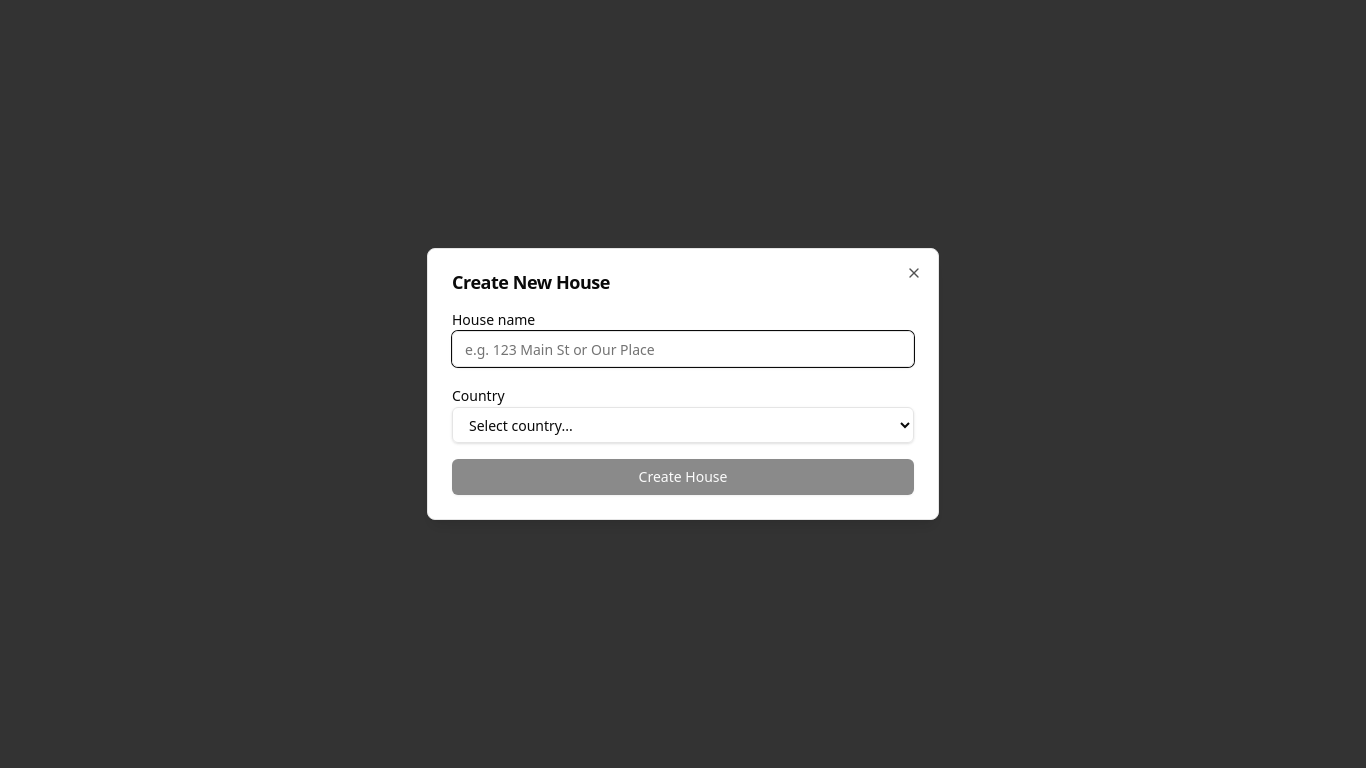
CreateHouseDialog › shows name hint when only country is filled
Select "Spain" in the dropdown labelled "Country" at coordinates (683, 425), box [452, 407, 914, 443]
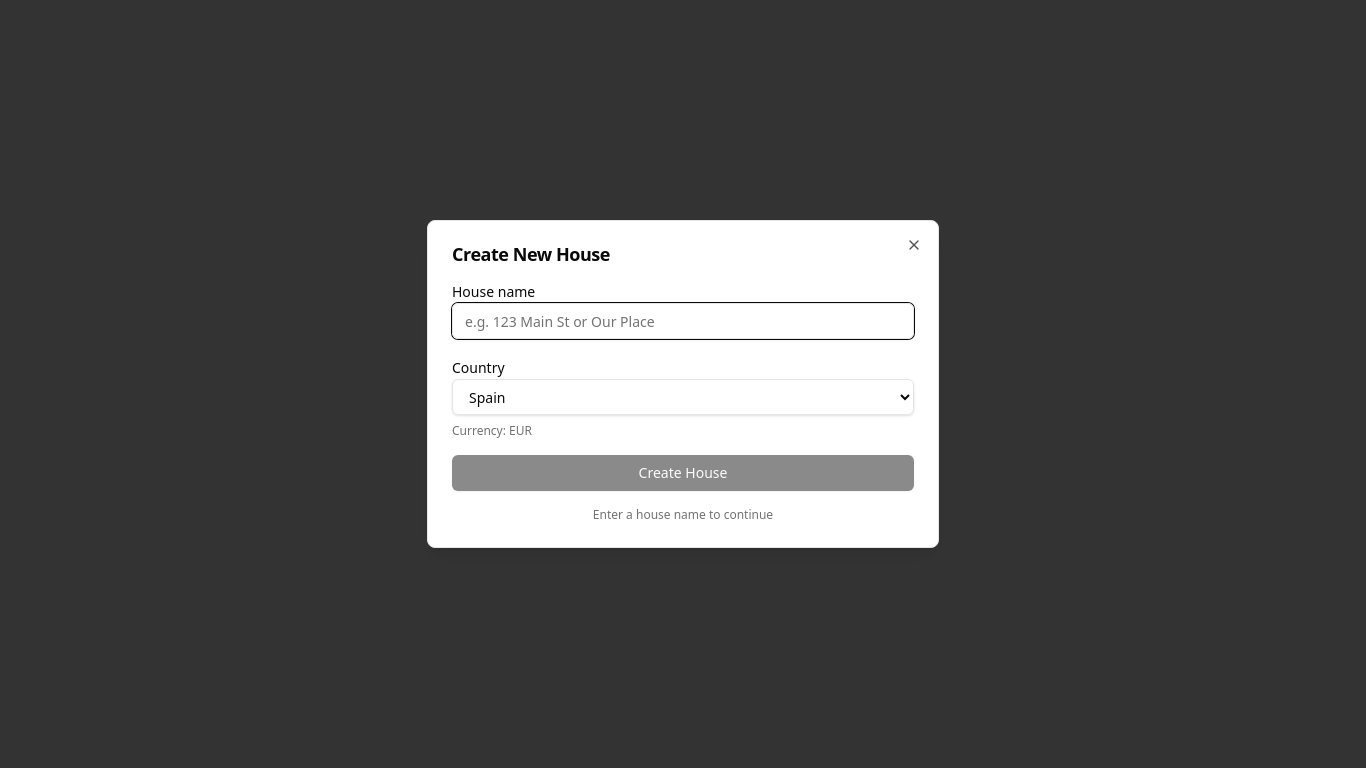
Expected: the text "Enter a house name to continue" is shown, [593, 506, 773, 523]
